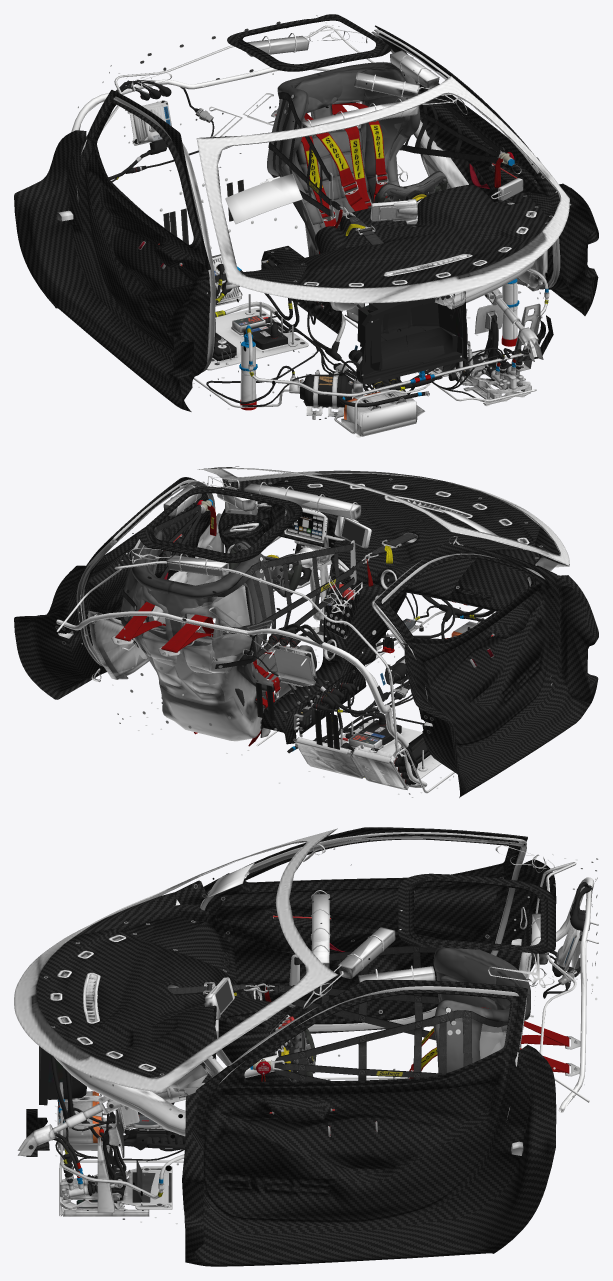
The model's file is gt_f296_int.glb.
The picture shows the model from 3 angles, top to bottom: view 1: azimuth 30°, elevation 25°; view 2: azimuth 150°, elevation 25°; view 3: azimuth 270°, elevation 25°; orthographic projection. The views are drawn at different scales.
Parts seen in each view (by area): view 1: Object_237, Object_389, Object_416, Object_413, Object_194, Object_401, Object_590, Object_446, Object_422, Object_168, Object_37, Object_76 (+16 smaller); view 2: Object_389, Object_237, Object_194, Object_395, Object_168, Object_413, Object_401, Object_422, Object_34, Object_590, Object_398, Object_416 (+15 smaller); view 3: Object_194, Object_389, Object_237, Object_416, Object_168, Object_413, Object_590, Object_422, Object_401, Object_446, Object_428, Object_506 (+14 smaller).
Part boxes in pixels (x1,y1,x2,y2): Object_237: (14, 90, 215, 411); Object_389: (225, 14, 559, 361); Object_416: (196, 76, 569, 303); Object_413: (102, 25, 549, 434); Object_194: (375, 25, 598, 315); Object_401: (108, 80, 548, 419); Object_590: (267, 62, 420, 254); Object_446: (133, 102, 522, 388); Object_422: (125, 101, 548, 436); Object_168: (268, 80, 514, 244); Object_37: (138, 109, 492, 383); Object_76: (279, 68, 408, 254); Object_389: (138, 473, 569, 744); Object_237: (374, 543, 598, 797); Object_194: (14, 477, 210, 699); Object_395: (130, 582, 282, 741); Object_168: (122, 499, 417, 668); Object_413: (56, 482, 496, 793); Object_401: (225, 521, 494, 784); Object_422: (268, 540, 483, 789); Object_34: (131, 585, 295, 739); Object_590: (120, 527, 316, 707); Object_398: (62, 478, 542, 797); Object_416: (197, 467, 569, 586); Object_194: (182, 979, 556, 1266); Object_389: (26, 873, 555, 1156); Object_237: (199, 827, 556, 1033); Object_416: (14, 829, 337, 1094); Object_168: (167, 945, 507, 1081); Object_413: (58, 862, 589, 1216); Object_590: (433, 947, 530, 1072); Object_422: (18, 921, 598, 1215); Object_401: (51, 881, 592, 1208); Object_446: (39, 924, 579, 1201); Object_428: (200, 832, 526, 1209); Object_506: (54, 1057, 185, 1136).
Size of the model in its own units: 1.94 by 1.13 by 1.91.
31 materials, 27 textured.
